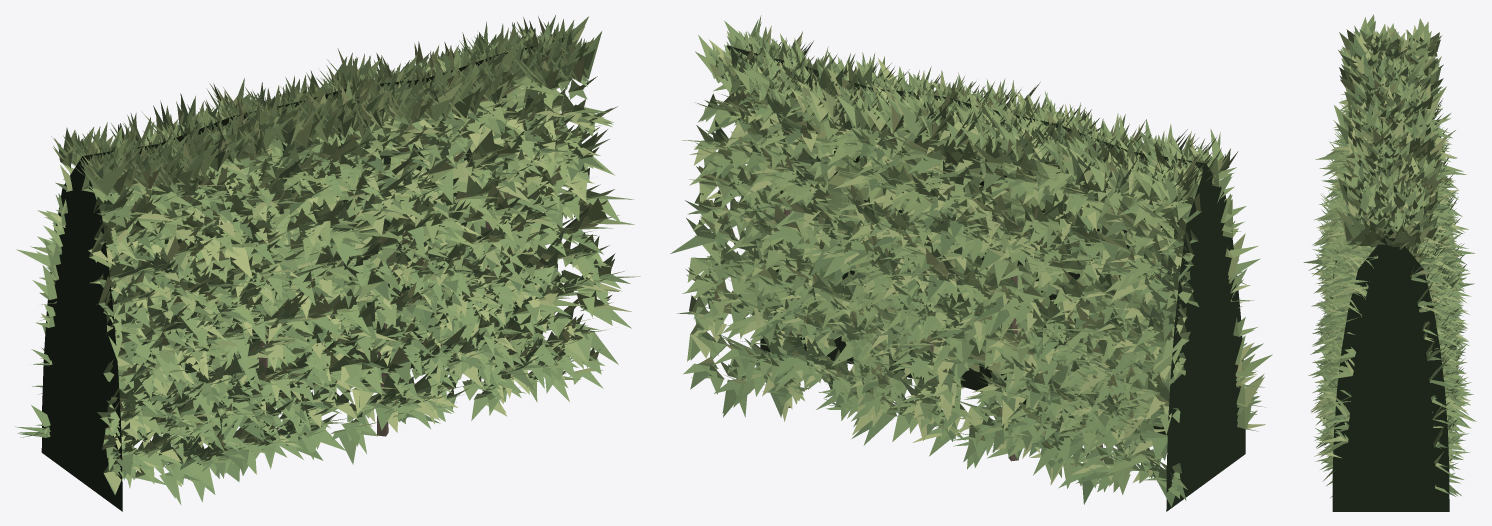
File: hedge_b.glb
3 renders of one model, left to right at view 1: azimuth 30°, elevation 25°; view 2: azimuth 150°, elevation 25°; view 3: azimuth 270°, elevation 25°, orthographic. The views are drawn at different scales.
Visible parts, largest first — view 1: hedge_b; view 2: hedge_b; view 3: hedge_b.
Boxes of the visible parts, box(x1,y1,x2,y2) form: hedge_b: box(15, 15, 640, 511); hedge_b: box(670, 15, 1272, 511); hedge_b: box(1303, 14, 1476, 511).
Size of the model in its own units: 2.69 by 1.69 by 0.888.
